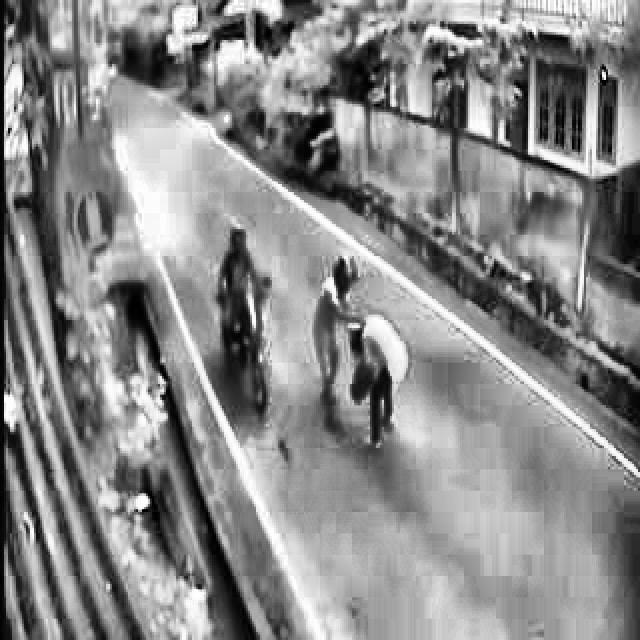robbery: (311, 253, 414, 450)
